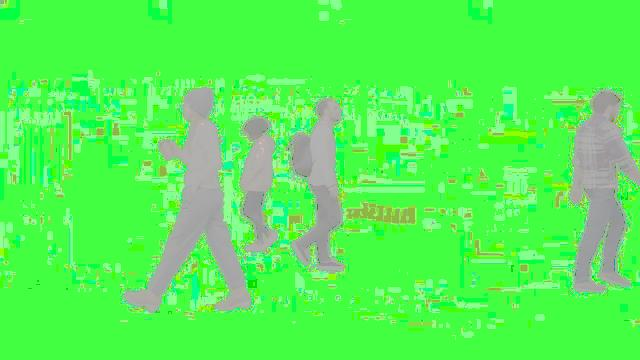berjalan: (124, 85, 253, 312), (554, 85, 638, 297), (287, 95, 359, 271), (232, 115, 278, 258)
